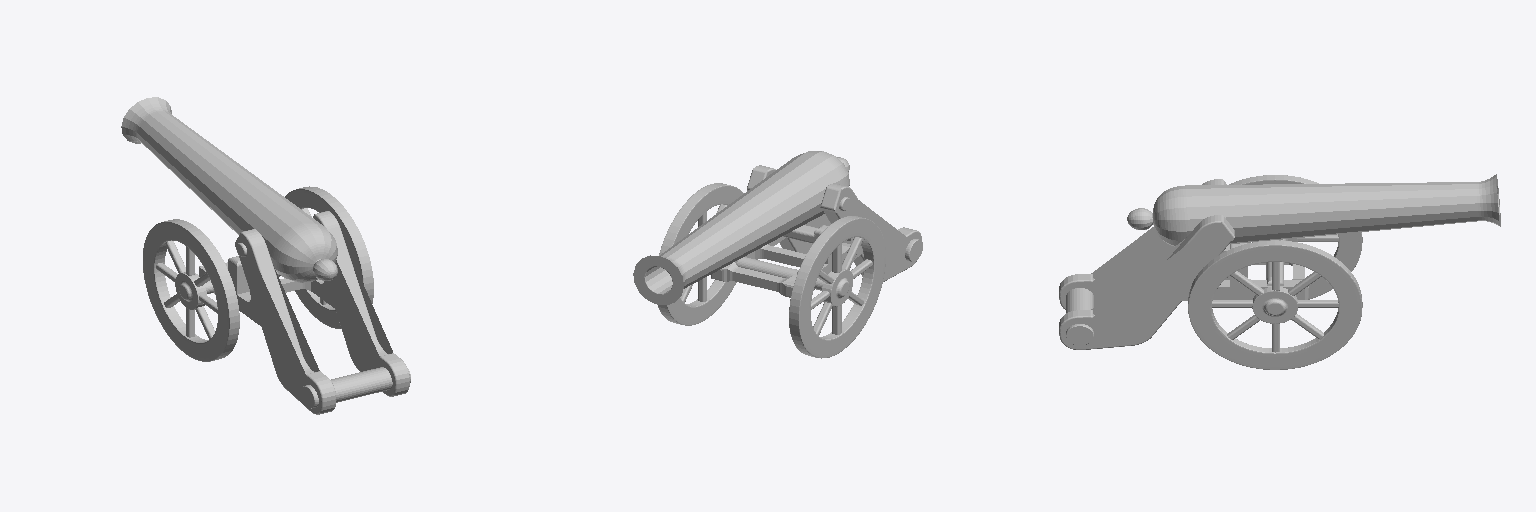
Rendered from canon1.obj.
3 views of the same model, side by side, from view 1: azimuth 30°, elevation 25°; view 2: azimuth 150°, elevation 25°; view 3: azimuth 270°, elevation 25° (orthographic).
Visible parts, largest first — view 1: Canon_Cube.004; view 2: Canon_Cube.004; view 3: Canon_Cube.004.
Boxes of the visible parts, x1,y1,x2,y2 form: Canon_Cube.004: [121, 97, 410, 414]; Canon_Cube.004: [633, 151, 922, 358]; Canon_Cube.004: [1059, 174, 1500, 369].
Bounding box in the file's own units: 21.22 × 21.37 × 54.1.